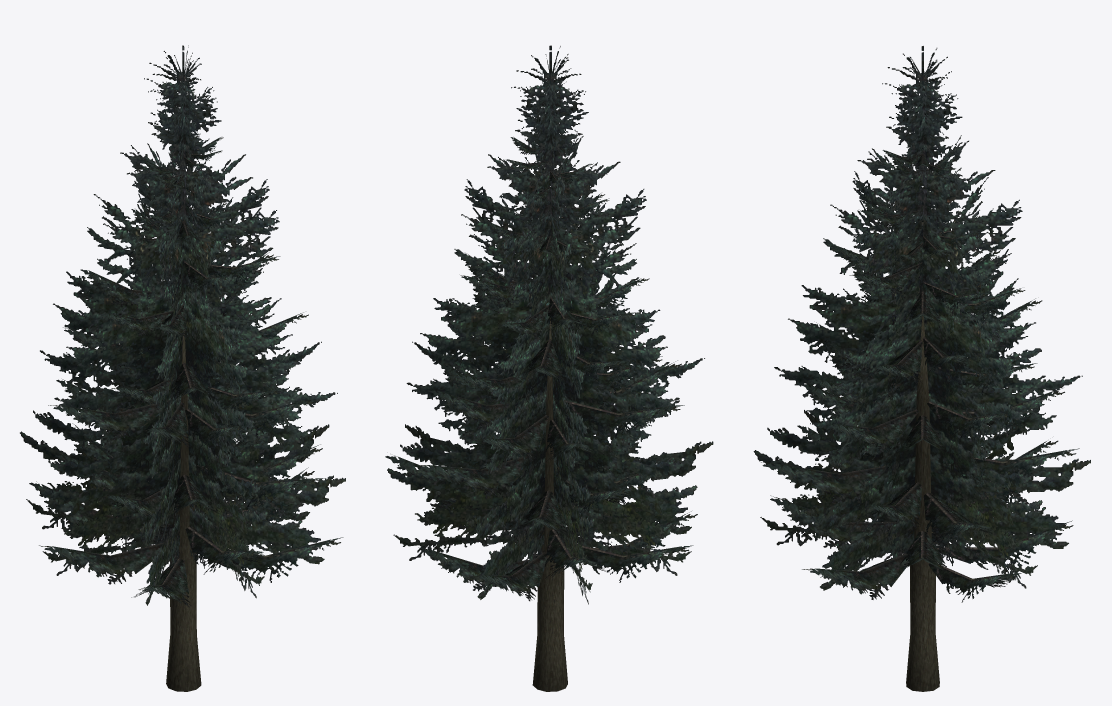
The model's file is glf_tree2__glf_tree2.glb.
3 renders of one model, left to right at view 1: azimuth 30°, elevation 25°; view 2: azimuth 150°, elevation 25°; view 3: azimuth 270°, elevation 25°, orthographic.
Visible parts, largest first — view 1: polygon1, polygon0; view 2: polygon1, polygon0; view 3: polygon1, polygon0.
Part boxes in pixels (x1=…): polygon1: x1=20, y1=45, x2=345, y2=607; polygon0: x1=166, y1=330, x2=201, y2=691; polygon1: x1=385, y1=45, x2=713, y2=604; polygon0: x1=532, y1=317, x2=567, y2=691; polygon1: x1=753, y1=46, x2=1090, y2=602; polygon0: x1=906, y1=316, x2=939, y2=691.
Bounding box in the file's own units: 100 × 206 × 100.
Materials: 2 (2 with a texture image).
